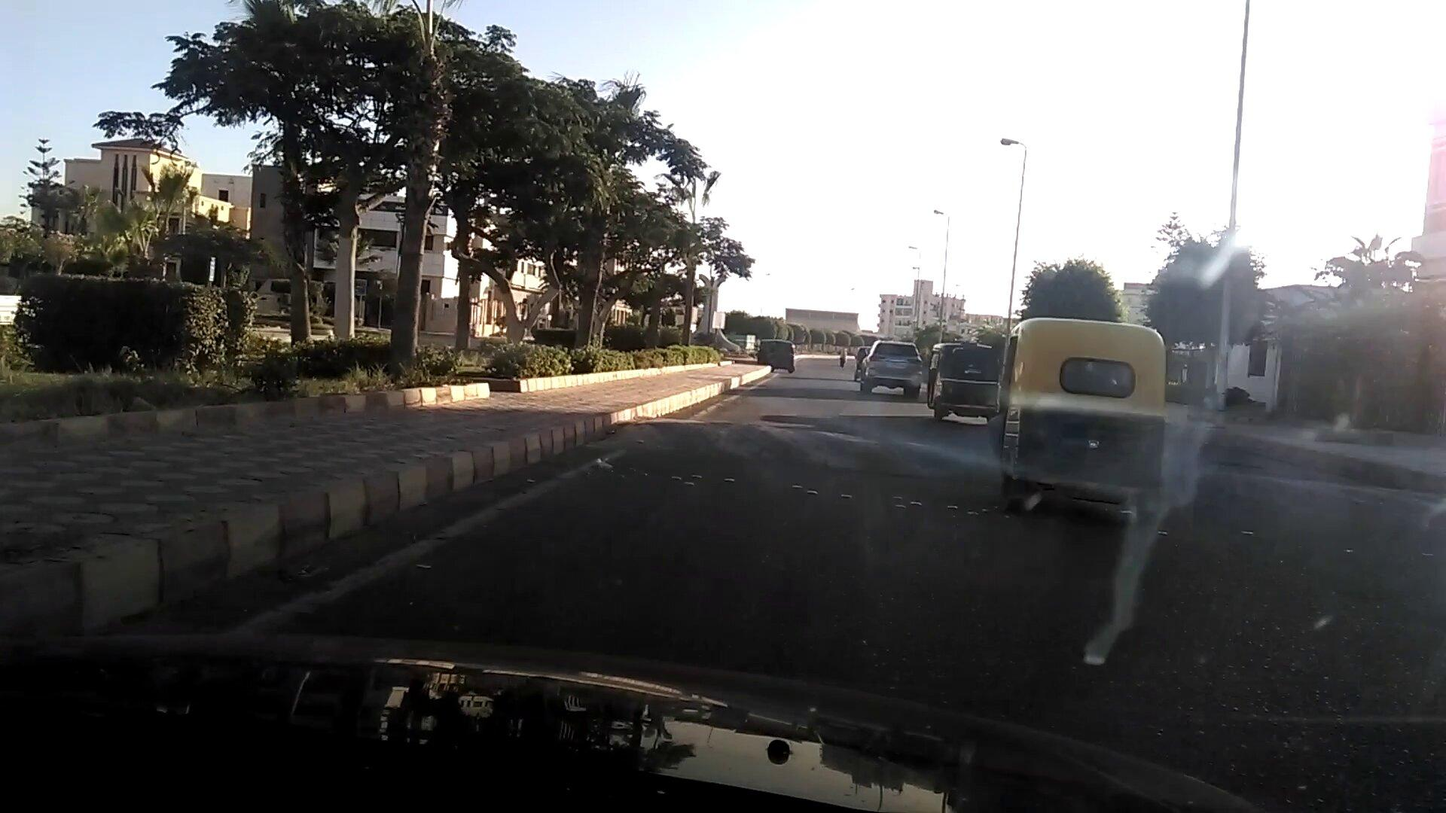Bump: (635, 420, 996, 482), (1179, 420, 1427, 493)
